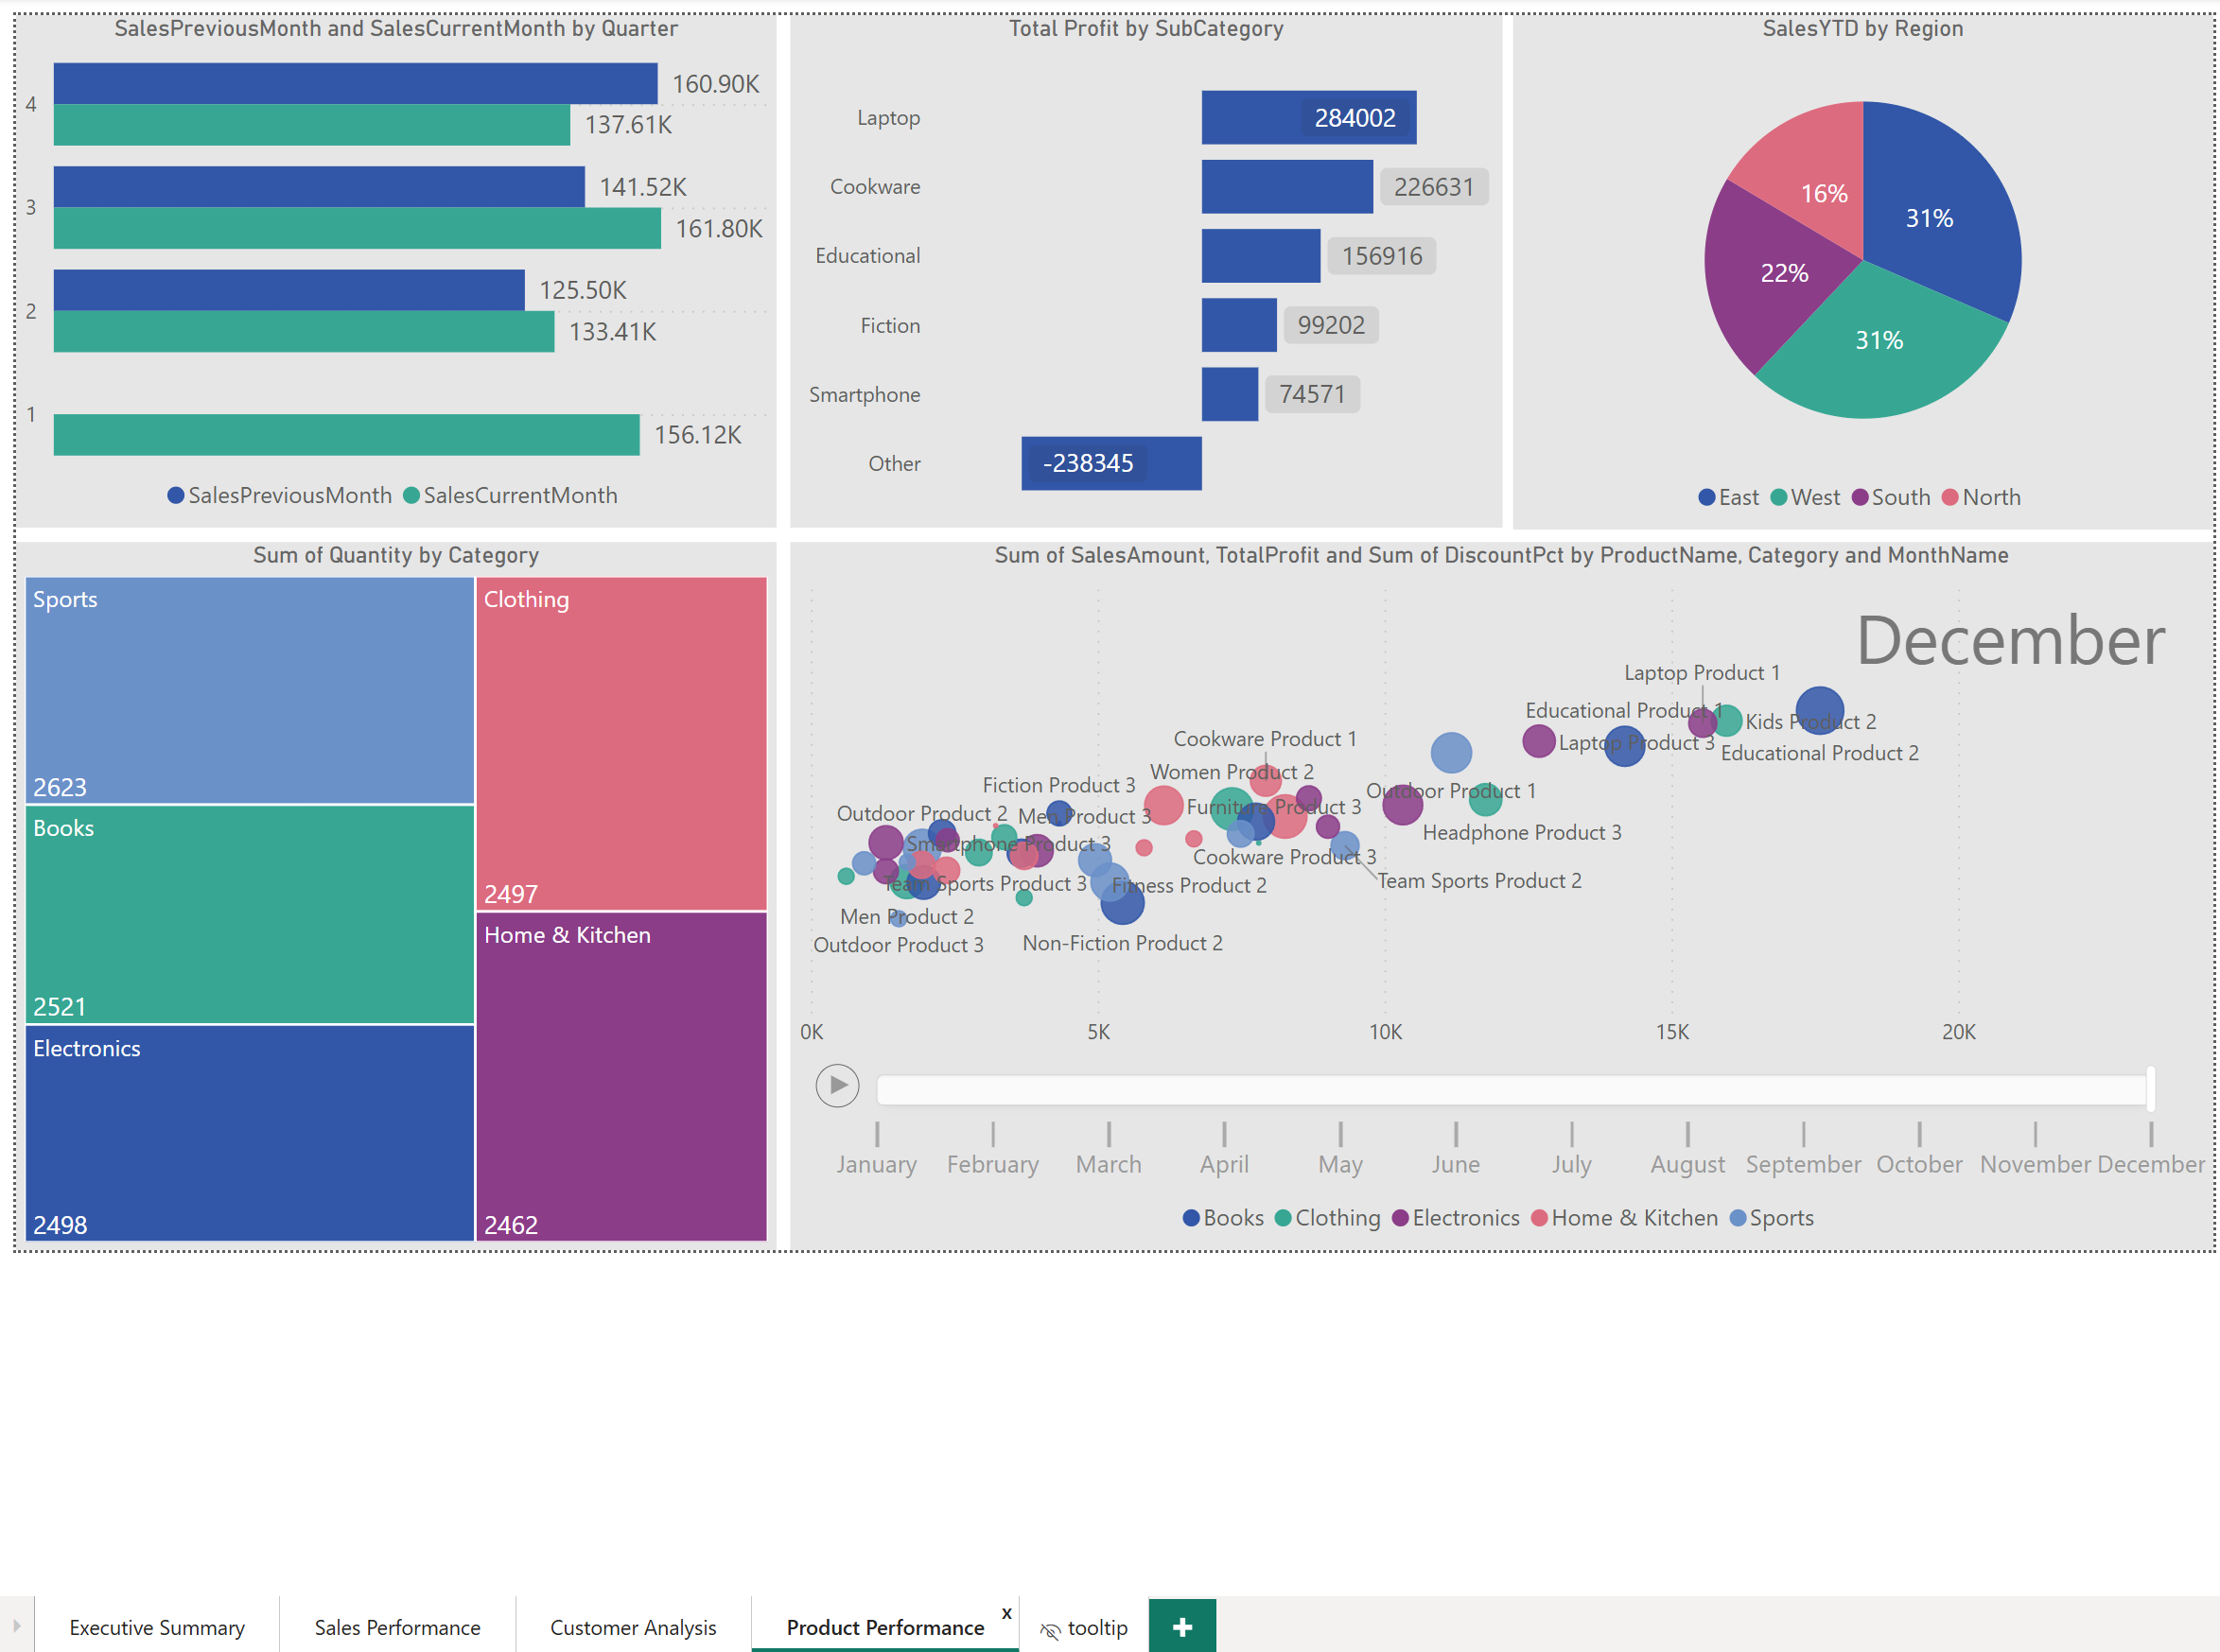

This screenshot's page, from the dashboard's own definition file:
{"tool":"powerbi","page":{"name":"Product Performance","canvas":[1280,720],"ordinal":3},"visuals":[{"type":"treemap","fields":{"Group":["dim_product.Category","dim_product.SubCategory"],"Values":["Sum(fact_sales.Quantity)"]},"box":[0,307,443,413],"z":0},{"type":"clusteredBarChart","fields":{"Category":["dim_date.Quarter"],"Y":["MeasureTable.SalesPreviousMonth","MeasureTable.SalesCurrentMonth"]},"box":[0,0,443,299],"z":2000},{"type":"scatterChart","fields":{"X":["Sum(fact_sales.SalesAmount)"],"Series":["dim_product.Category"],"Y":["MeasureTable.TotalProfit"],"Play":["dim_date.MonthName"],"Category":["dim_product.ProductName"],"Size":["Sum(fact_sales.DiscountPct)"]},"box":[451,307,829,413],"z":3000},{"type":"pieChart","fields":{"Category":["dim_customer.Region"],"Y":["MeasureTable.SalesYTD"]},"box":[872,0,408,300],"z":4000},{"type":"clusteredBarChart","title":"Total Profit by SubCategory","fields":{"Category":["PieChartTable.PieChartLegend"],"Y":["Sum(PieChartTable.TotalProfit)"]},"box":[451,0,415,299],"z":4001}]}

Visuals, with their boxes on the page's 1280x720 design canvas (x1, y1, x2, y2). These are canvas units, not pixel positions in the 2220x1652 screenshot, which may show the page scaled, cropped or inside an application window:
treemap - dim_product.Category x dim_product.SubCategory: 0/307/443/720
clusteredBarChart - dim_date.Quarter x MeasureTable.SalesPreviousMonth: 0/0/443/299
scatterChart - Sum(fact_sales.SalesAmount) x dim_product.Category: 451/307/1280/720
pieChart - dim_customer.Region x MeasureTable.SalesYTD: 872/0/1280/300
"Total Profit by SubCategory" clusteredBarChart: 451/0/866/299
